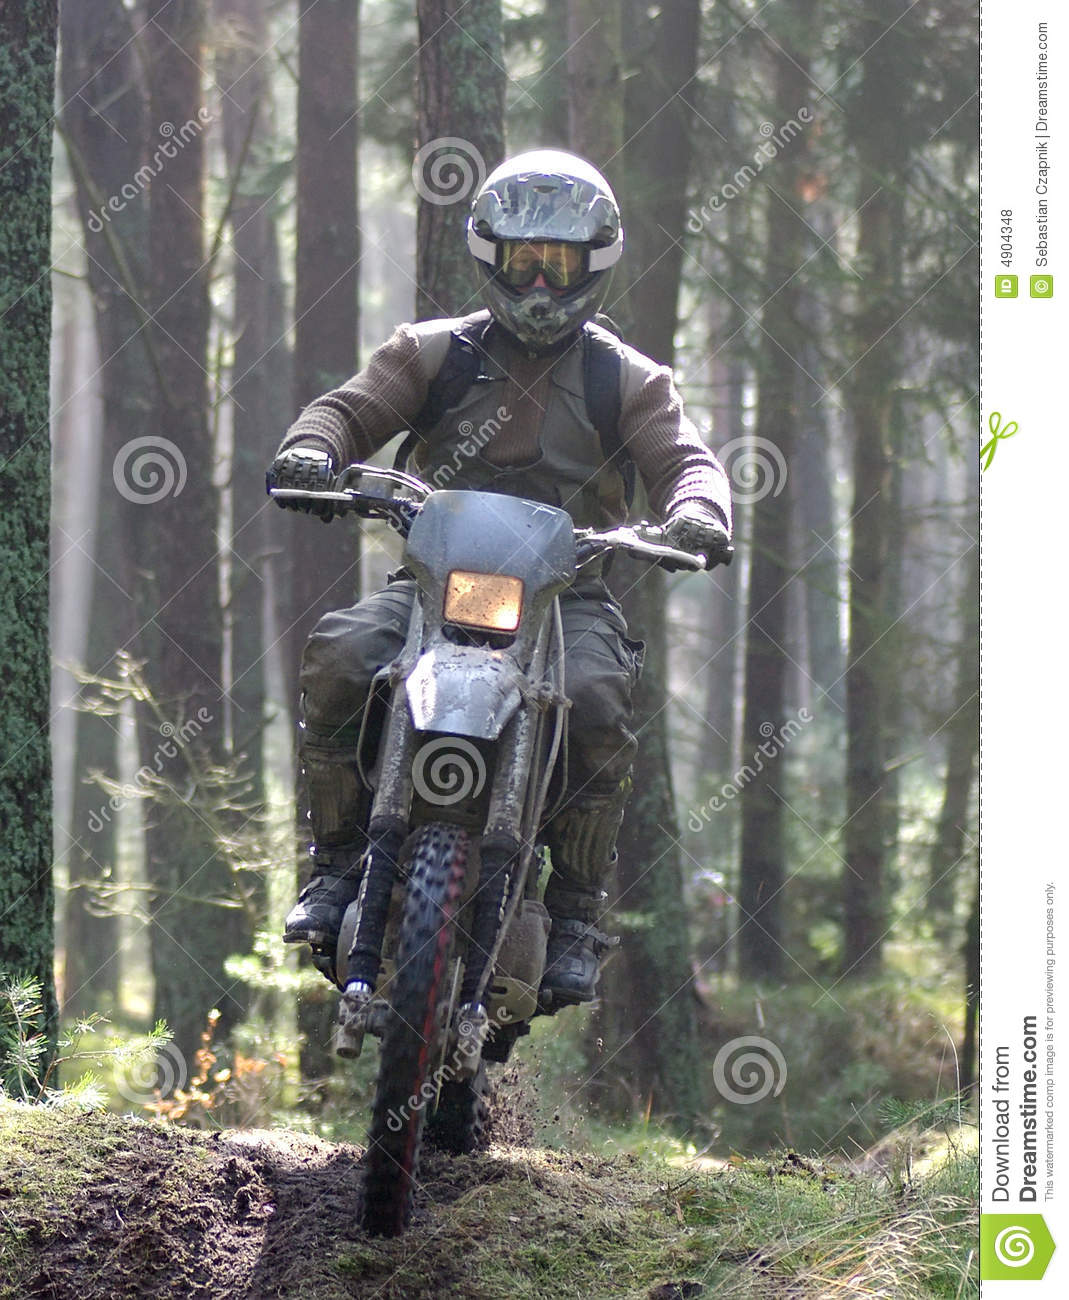helmet: (468, 151, 626, 329)
